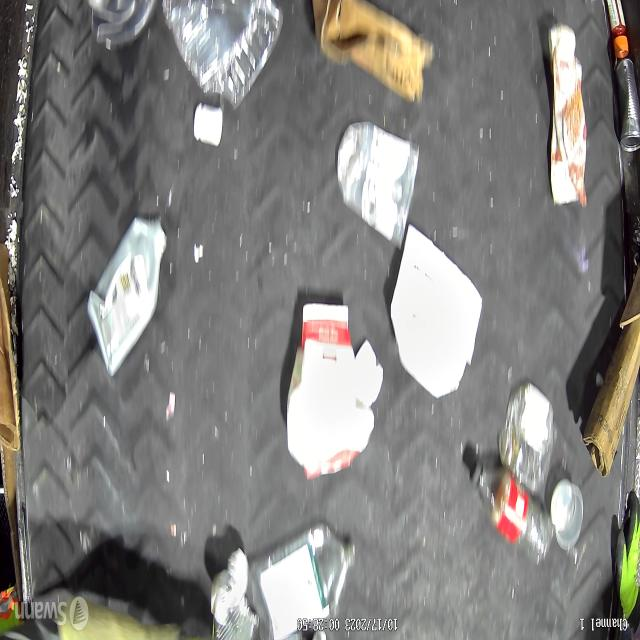can: (615, 58, 640, 153)
milk_jug: (286, 304, 375, 481)
non_white_jug: (88, 215, 168, 376)
plastic_bottle: (251, 521, 355, 640), (470, 459, 552, 561)
